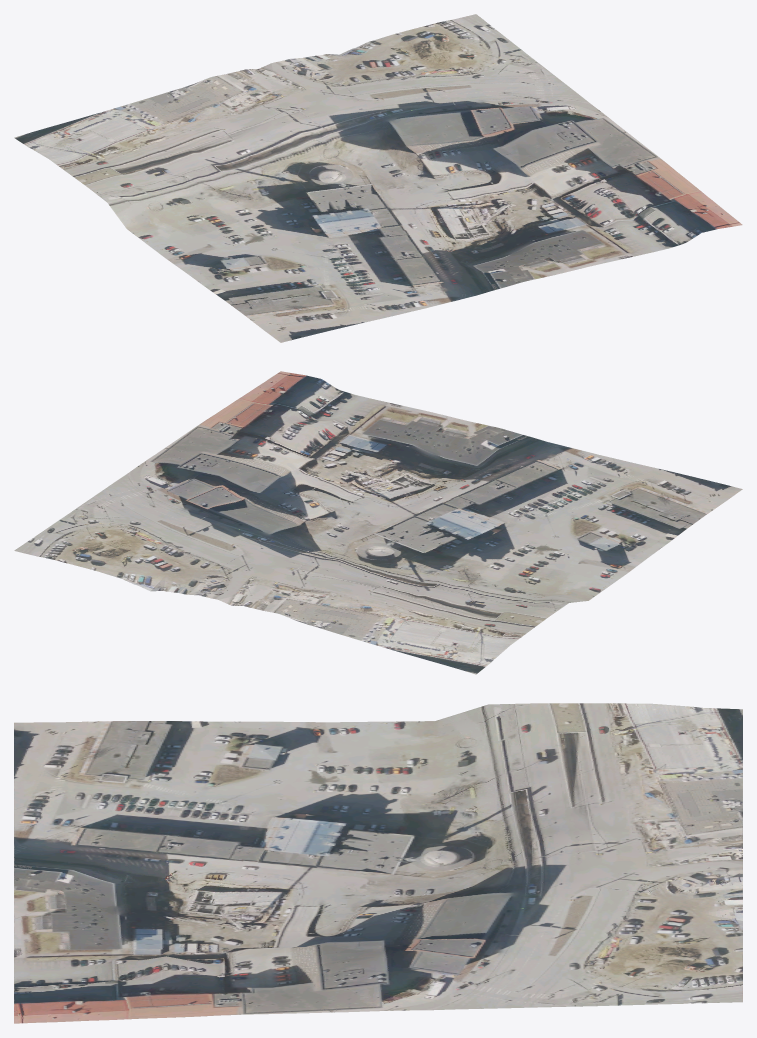
File: CM_Terrain_24487592_6820204.fbx
3 views of the same model, one above another, from view 1: azimuth 30°, elevation 25°; view 2: azimuth 150°, elevation 25°; view 3: azimuth 270°, elevation 25° (orthographic). The views are drawn at different scales.
Parts seen in each view (by area): view 1: CM_Terrain_24487592_6820204_LOD0; view 2: CM_Terrain_24487592_6820204_LOD0; view 3: CM_Terrain_24487592_6820204_LOD0.
Part boxes in pixels (<box>): CM_Terrain_24487592_6820204_LOD0: <box>14,14,742,342</box>; CM_Terrain_24487592_6820204_LOD0: <box>14,371,742,674</box>; CM_Terrain_24487592_6820204_LOD0: <box>14,703,742,1023</box>.
Size of what is drawn, in the model's own units: 205 by 12.19 by 205.
